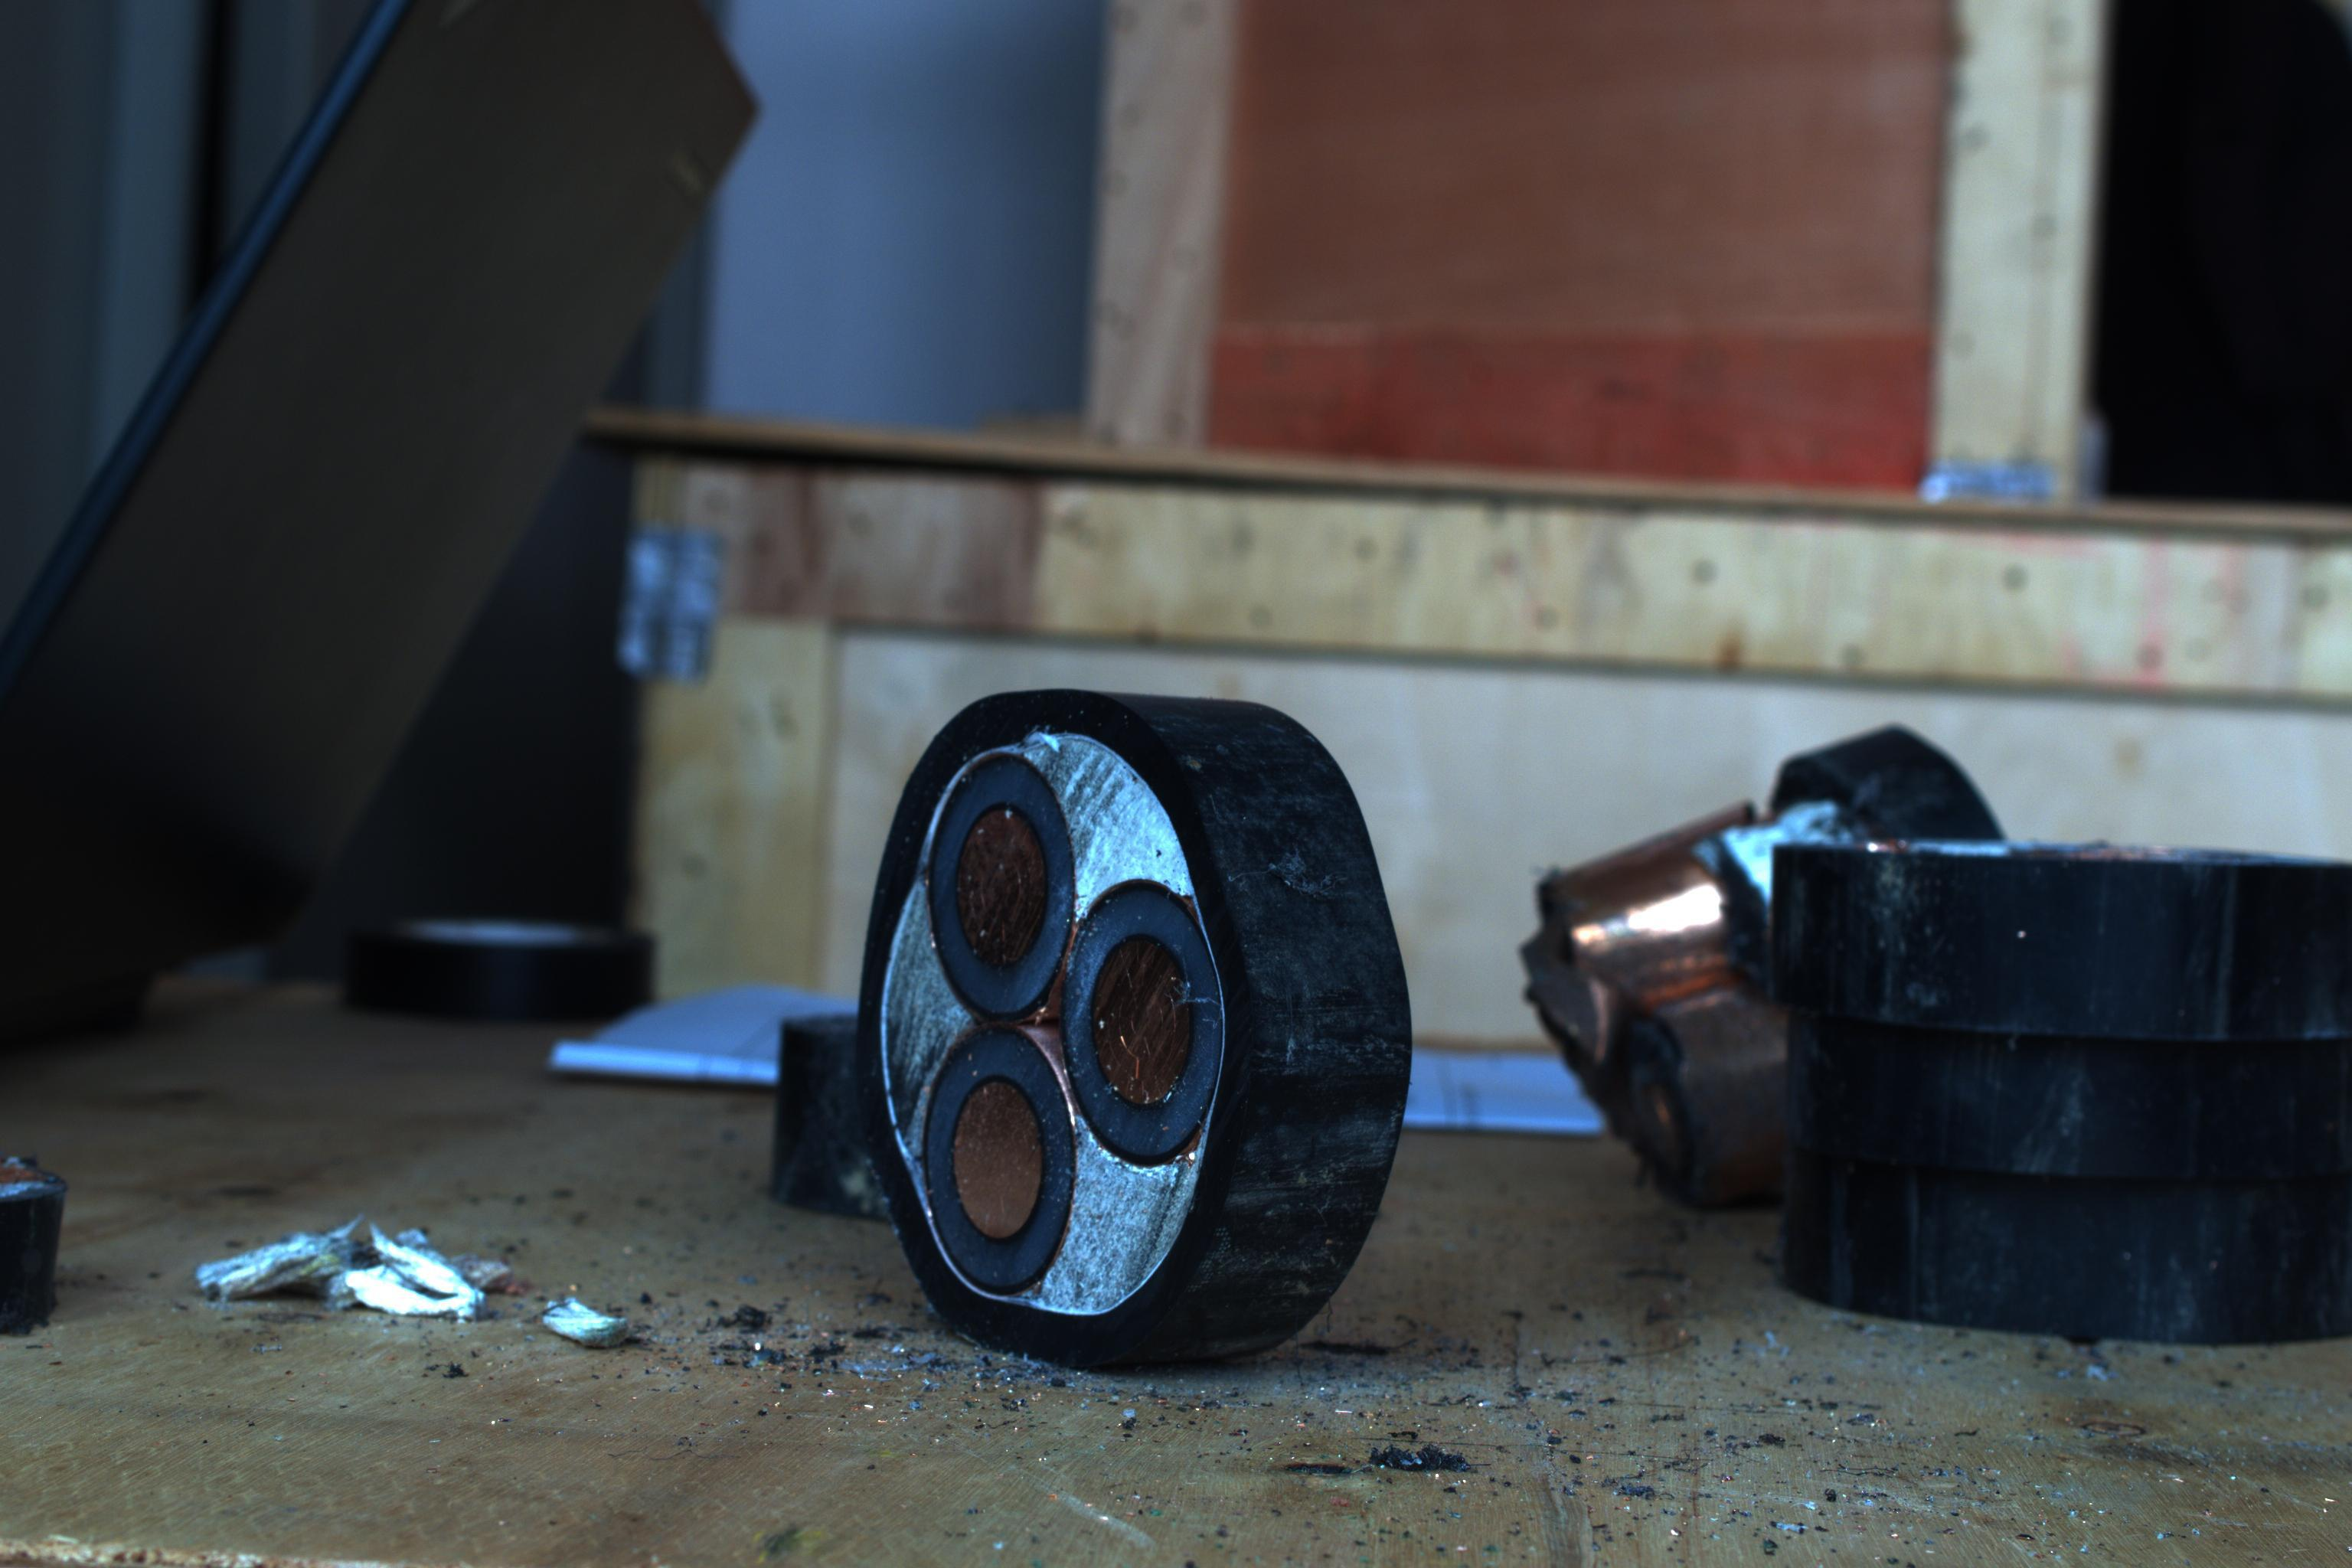ZA_YJV_8.7_10kV_3x240: (857, 691, 1291, 1332)
